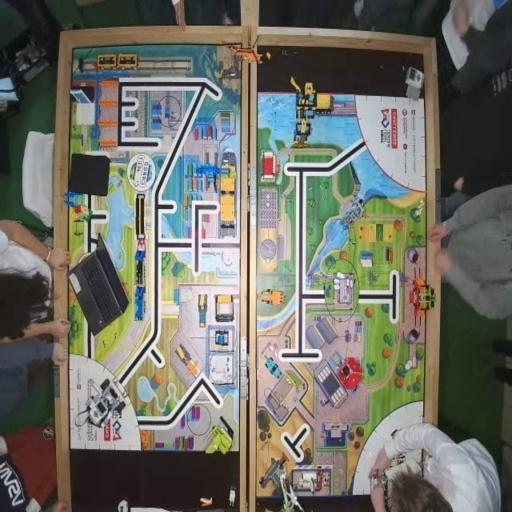lego_robot: (85, 377, 127, 430), (372, 452, 407, 496)
